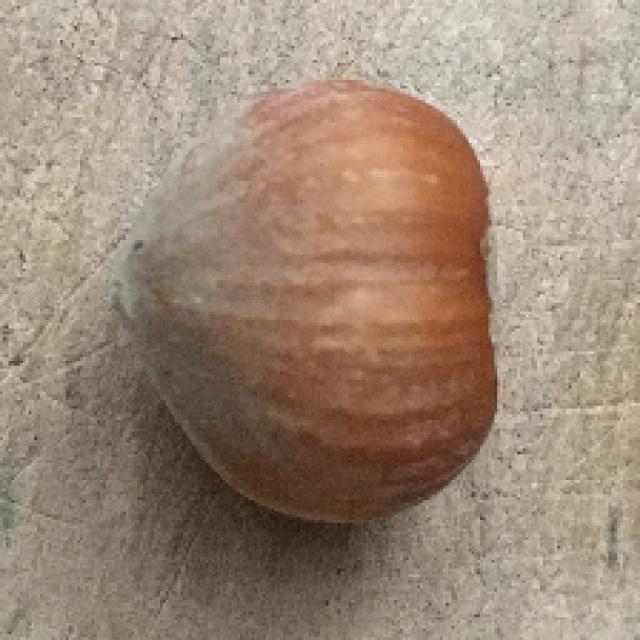QualityHazelnut: (105, 80, 500, 527)
